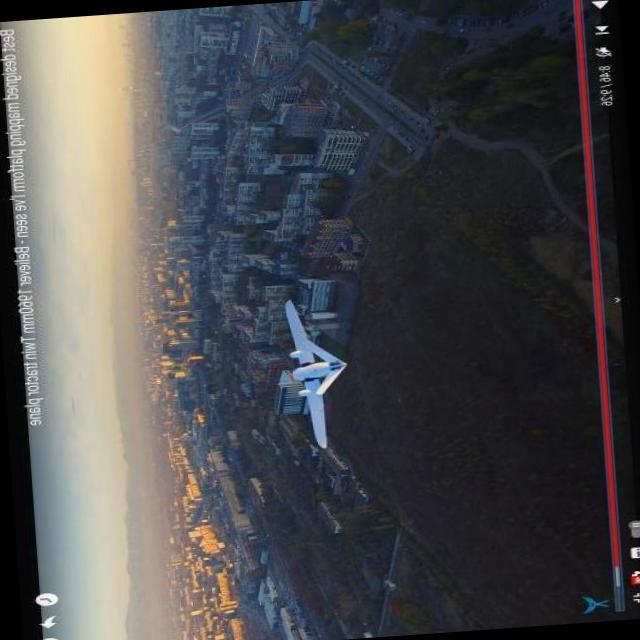iha: (290, 312, 328, 443)
